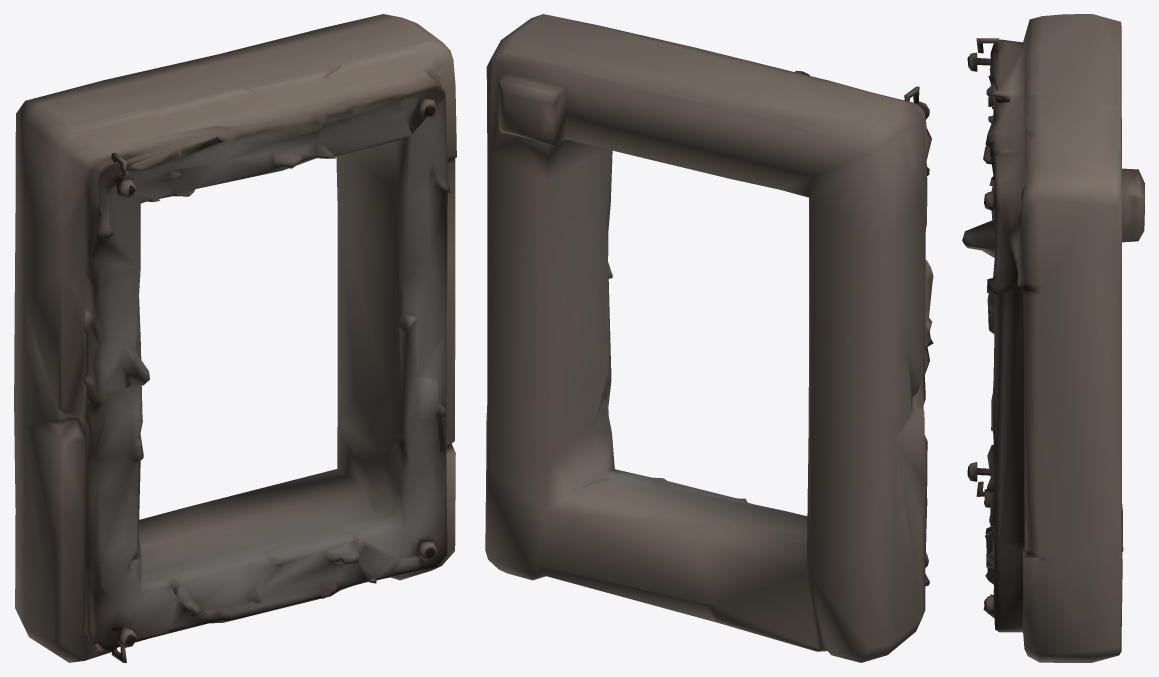
Rendered from coach_window_frame.glb.
3 renders of one model, left to right at view 1: azimuth 30°, elevation 25°; view 2: azimuth 150°, elevation 25°; view 3: azimuth 270°, elevation 25°, orthographic. The views are drawn at different scales.
Visible parts, largest first — view 1: coach_window_frame_LOD0; view 2: coach_window_frame_LOD0; view 3: coach_window_frame_LOD0.
Boxes of the visible parts, x1,y1,x2,y2 form: coach_window_frame_LOD0: [14, 14, 456, 662]; coach_window_frame_LOD0: [485, 14, 933, 662]; coach_window_frame_LOD0: [962, 14, 1144, 662].
Size of what is drawn, in the model's own units: 0.9322 by 1.2 by 0.4055.
Materials: 1 (1 with a texture image).
